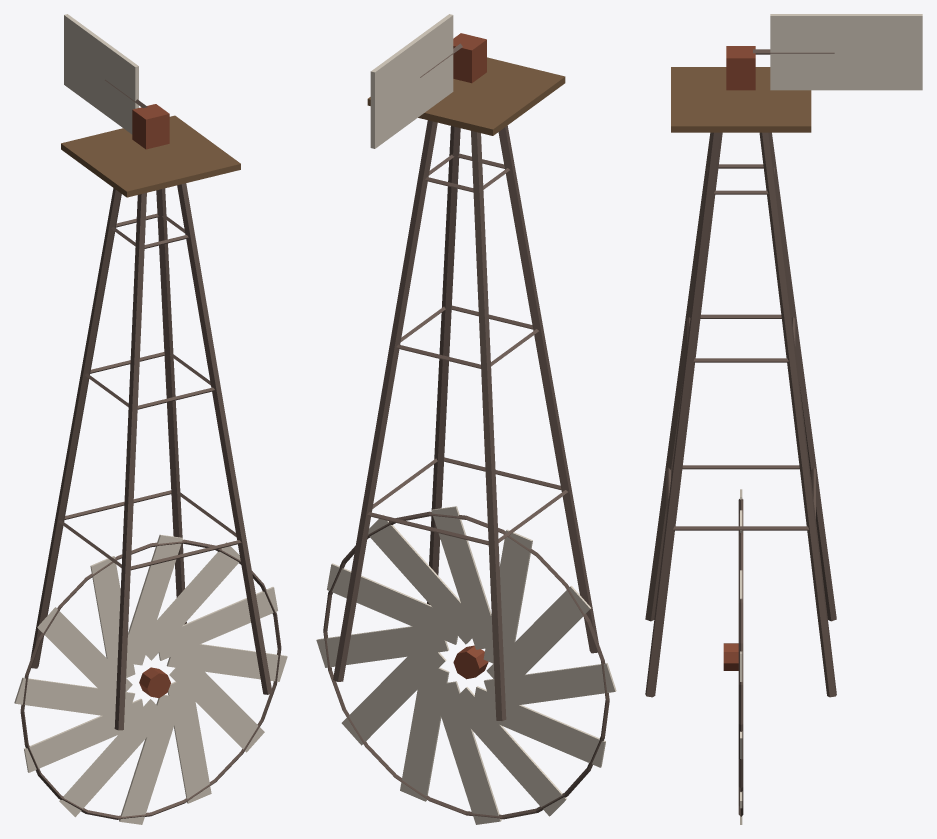
The model's file is windmill.glb.
3 renders of one model, left to right at view 1: azimuth 30°, elevation 25°; view 2: azimuth 150°, elevation 25°; view 3: azimuth 270°, elevation 25°, orthographic. The views are drawn at different scales.
Visible parts, largest first — view 1: windmill_rotor, windmill_tower; view 2: windmill_rotor, windmill_tower; view 3: windmill_tower, windmill_rotor.
Part boxes in pixels (x1,y1,x2,y2): windmill_rotor: [14, 534, 287, 824]; windmill_tower: [30, 14, 272, 730]; windmill_rotor: [316, 506, 616, 824]; windmill_tower: [333, 14, 598, 720]; windmill_tower: [645, 14, 922, 697]; windmill_rotor: [723, 489, 743, 824].
Bounding box in the file's own units: 5.72 × 14.96 × 4.74.
